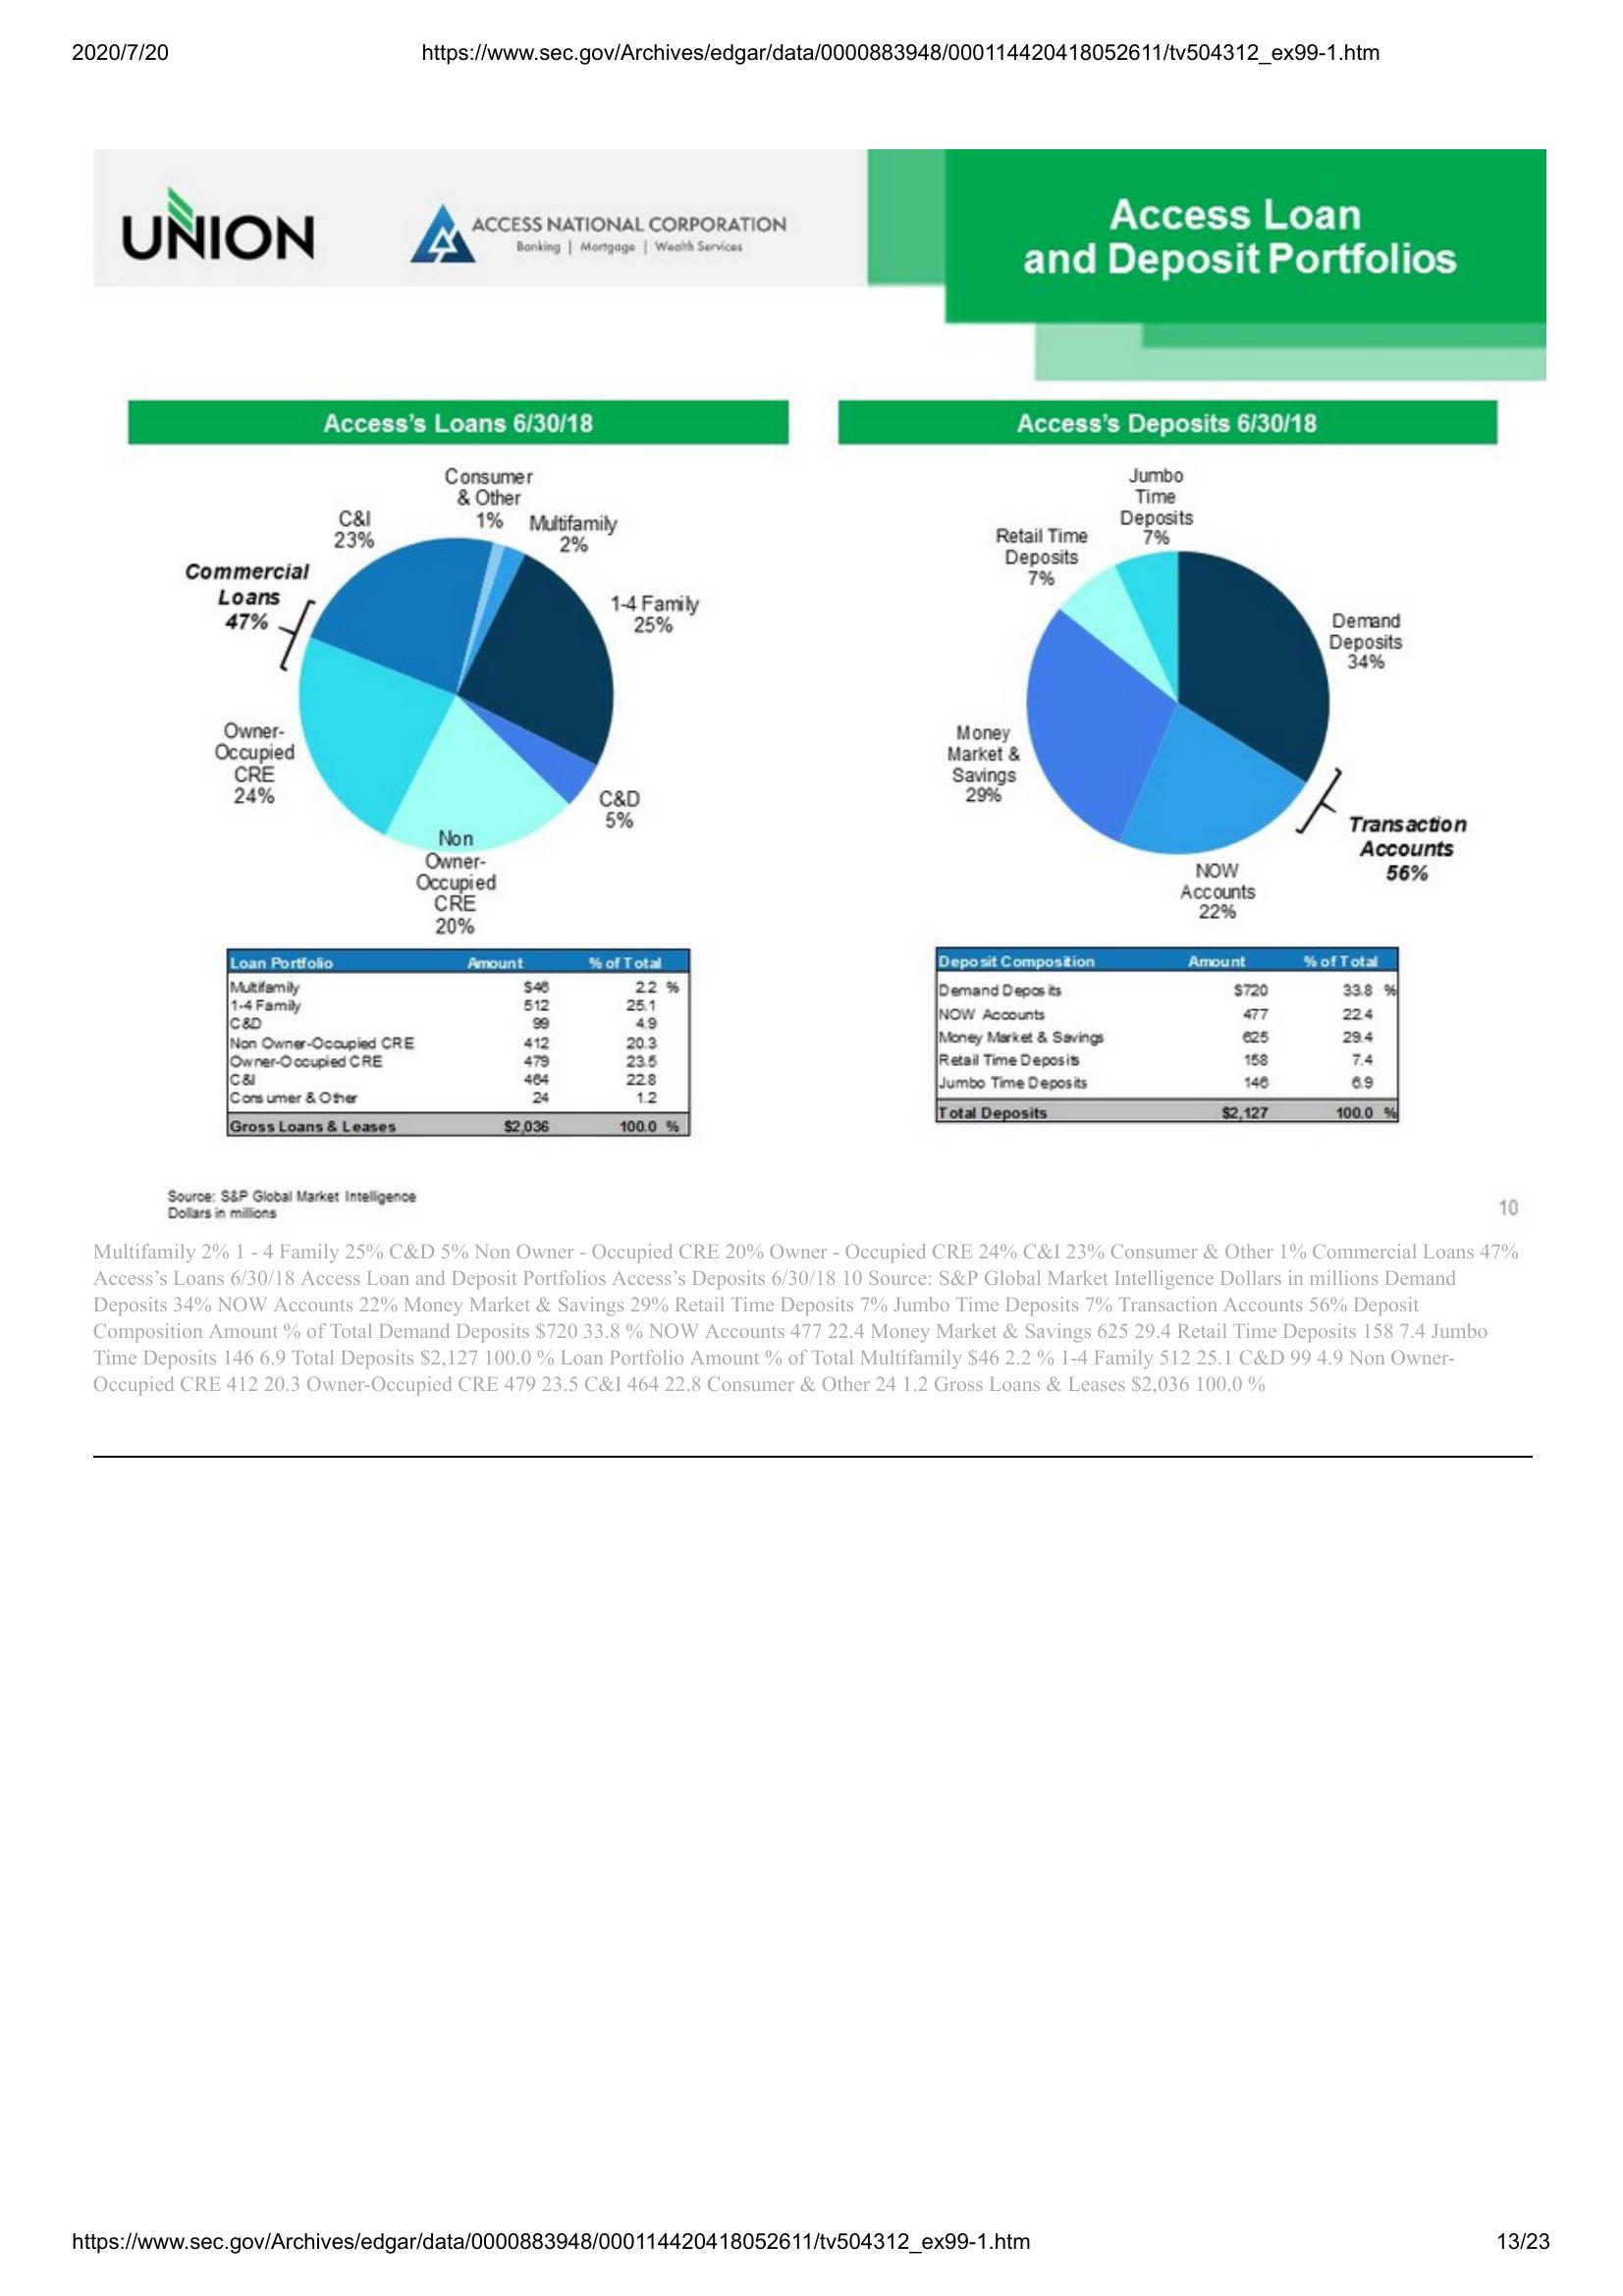table: (218, 943, 696, 1143), (929, 941, 1402, 1132)
